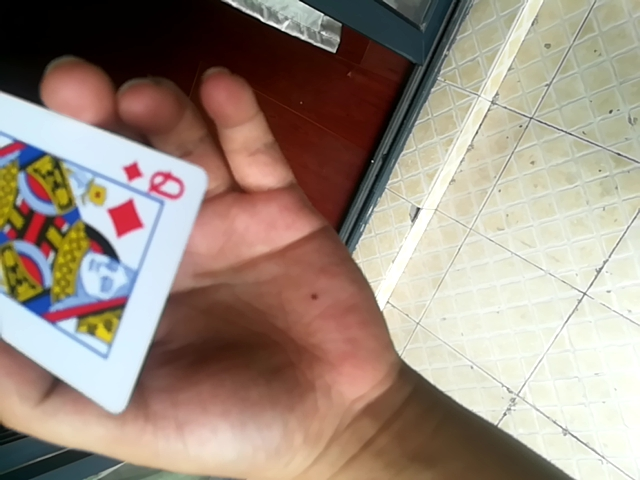fk q: (0, 50, 208, 417)
